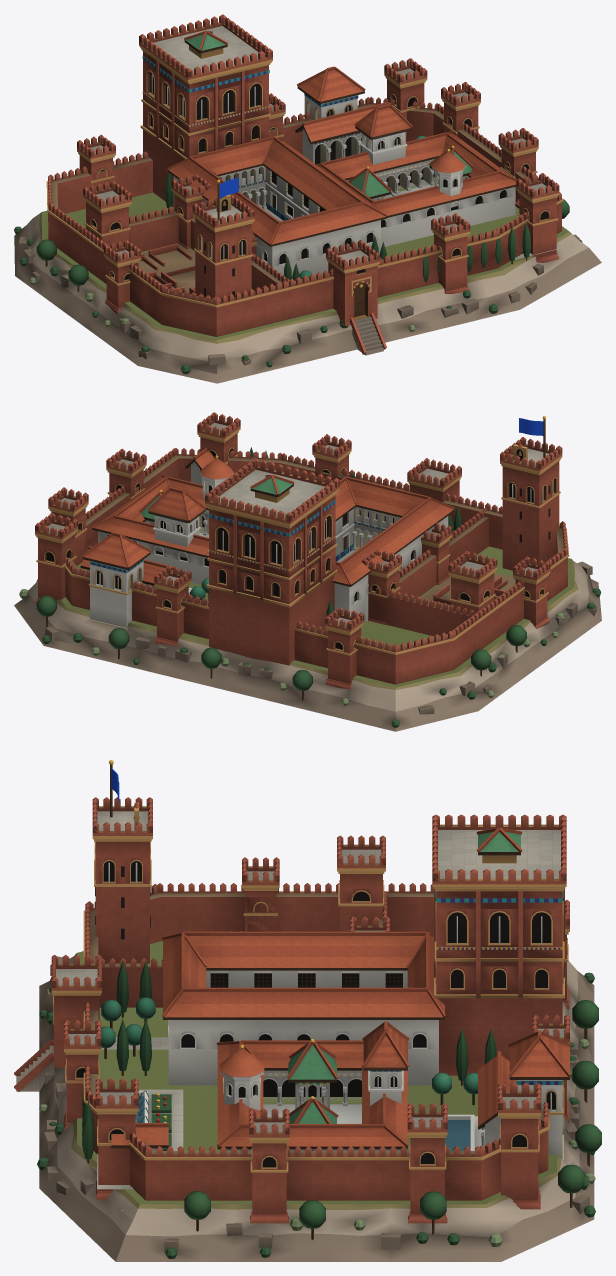
File: lm_elhamra.glb
3 renders of one model, top to bottom at view 1: azimuth 30°, elevation 25°; view 2: azimuth 150°, elevation 25°; view 3: azimuth 270°, elevation 25°, orthographic. The views are drawn at different scales.
Visible parts, largest first — view 1: lm_elhamra; view 2: lm_elhamra; view 3: lm_elhamra.
Boxes of the visible parts, <box> form: lm_elhamra: <box>14,14,601,383</box>; lm_elhamra: <box>14,412,601,731</box>; lm_elhamra: <box>14,760,601,1261</box>.
Size of the model in its own units: 2.51 by 1.01 by 2.04.
1 material, 1 textured.
